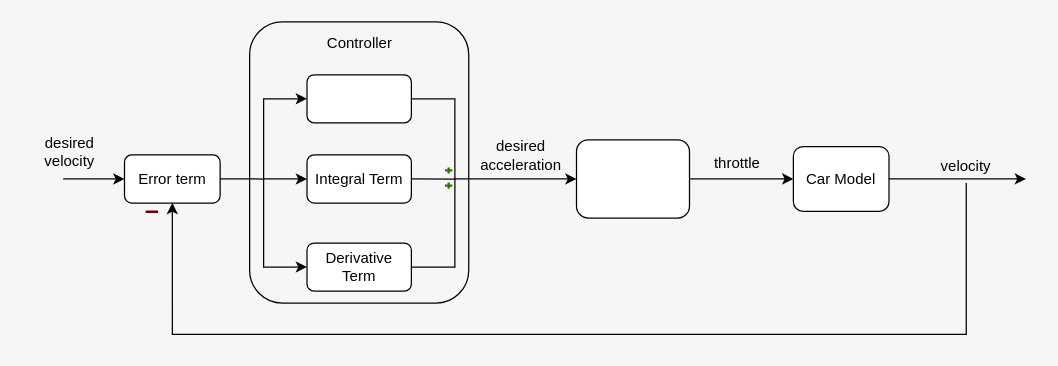
Some shapes in this 1058 by 366 pixel diagram are drawn without their labels. Each missing label, with the centre of its shape:
"desired acceleration to throttle function" belongs at (632,178).
"Proportional Term" belongs at (358,98).
